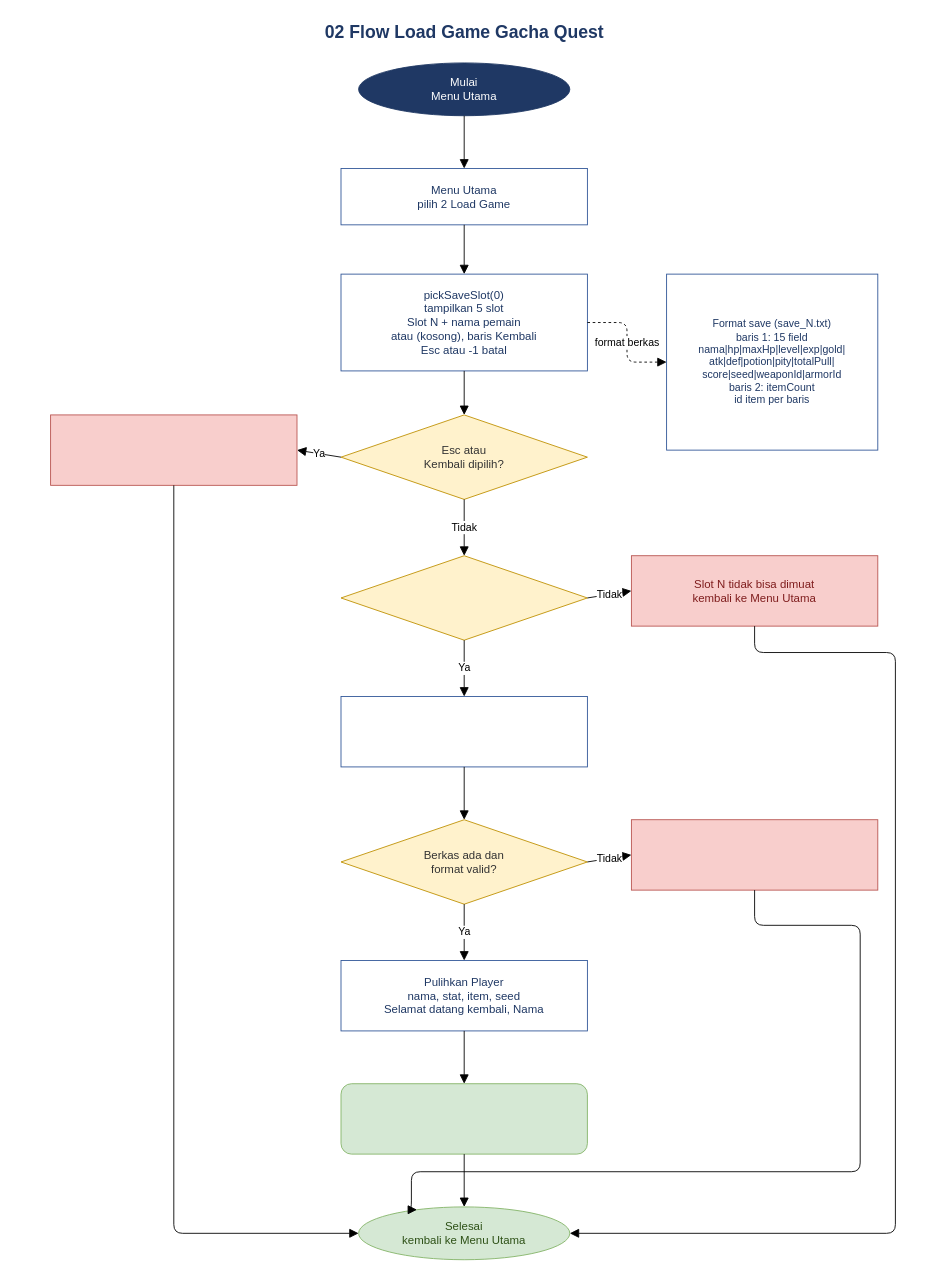
Some shapes in this 928 by 1275 pixel diagram are drawn without their labels. The shapes that lost their labels are listed below. From the top down, each one's centre as x and y in pixels, then its label:
At pixel 173 449: "Batal kembali ke Menu Utama".
At pixel 463 597: "Slot terisi?".
At pixel 463 731: "loadGameSlot baca data/save_N.txt slot 1 fallback save.txt".
At pixel 754 854: "Gagal memuat Slot N tidak bisa dimuat kembali ke Menu Utama".
At pixel 463 1118: "runHub dunia sama dari seed tersimpan".
